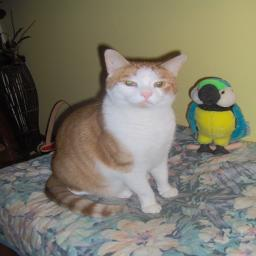catnose: (139, 91, 154, 100)
